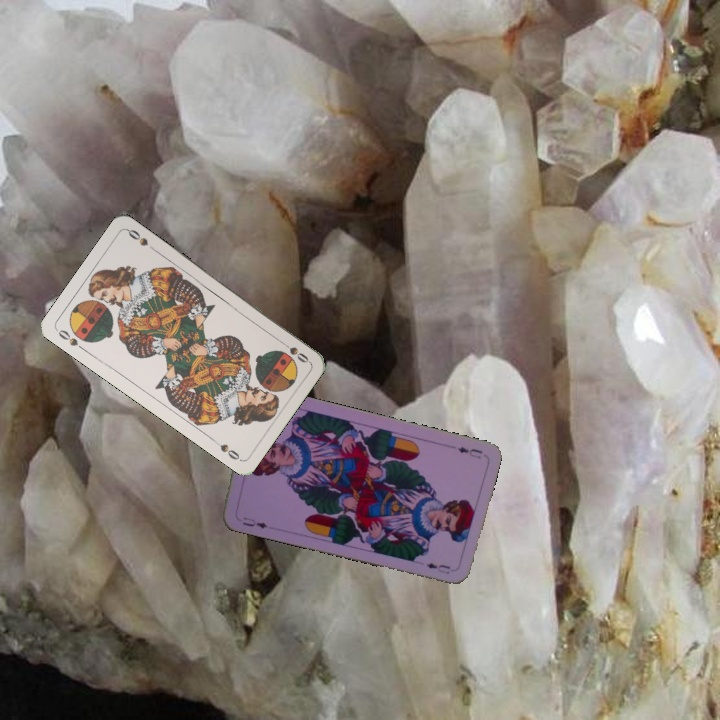EU: (453, 442, 485, 461), (239, 513, 270, 531)
SO: (276, 336, 311, 366), (54, 325, 88, 354)
